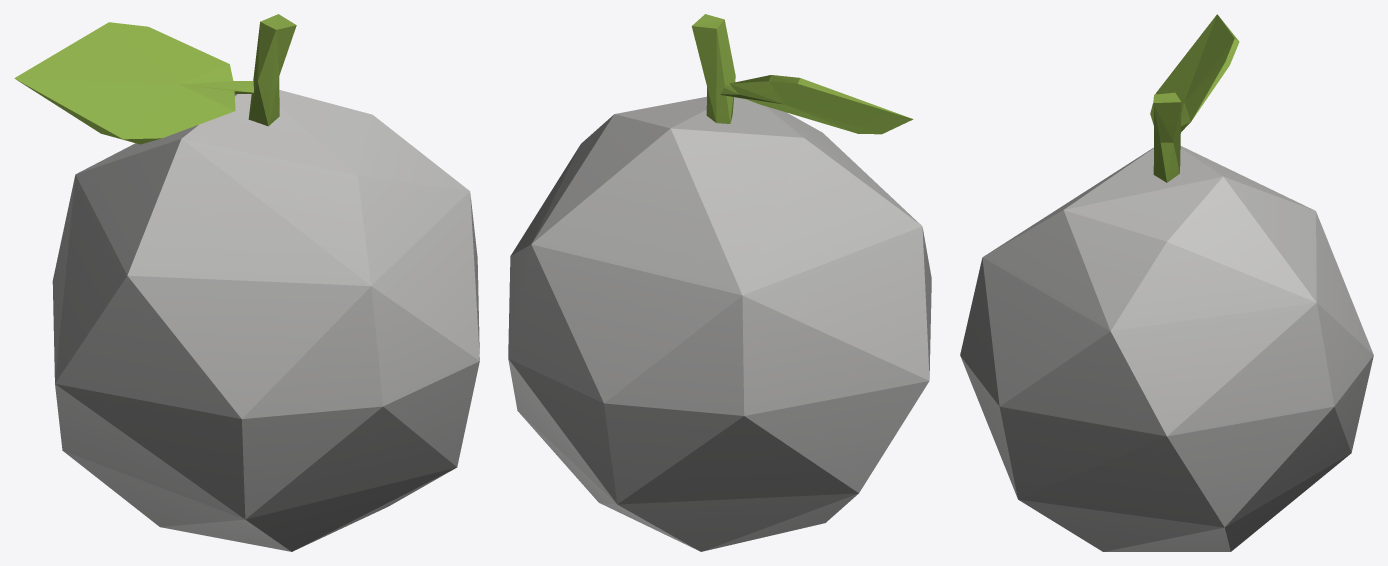
File: Orange_02.fbx
3 renders of one model, left to right at view 1: azimuth 30°, elevation 25°; view 2: azimuth 150°, elevation 25°; view 3: azimuth 270°, elevation 25°, orthographic. The views are drawn at different scales.
Parts seen in each view (by area): view 1: Orange_02; view 2: Orange_02; view 3: Orange_02.
Part boxes in pixels (<box>): Orange_02: <box>14,14,479,551</box>; Orange_02: <box>508,14,931,551</box>; Orange_02: <box>960,14,1373,551</box>.
Bounding box in the file's own units: 0.159 × 0.1736 × 0.148.
